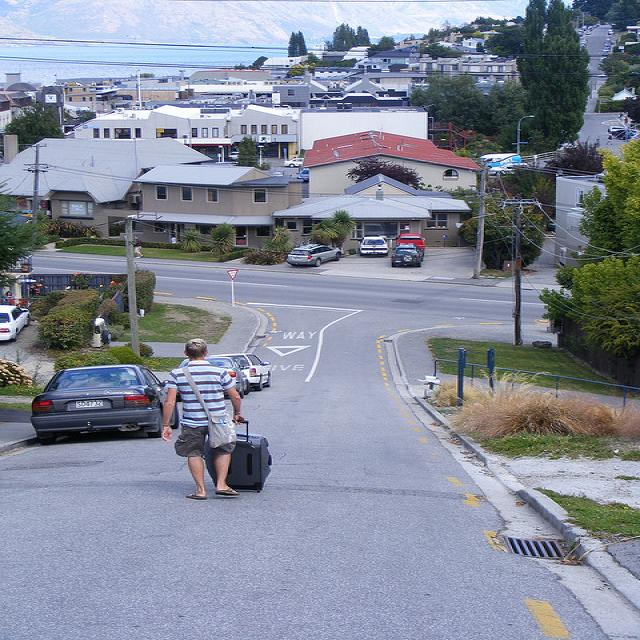Vehicle: (31, 364, 179, 446), (176, 355, 249, 399), (212, 352, 272, 392), (286, 242, 343, 268), (1, 304, 32, 341), (390, 244, 424, 268), (358, 235, 392, 257), (396, 233, 426, 252)
